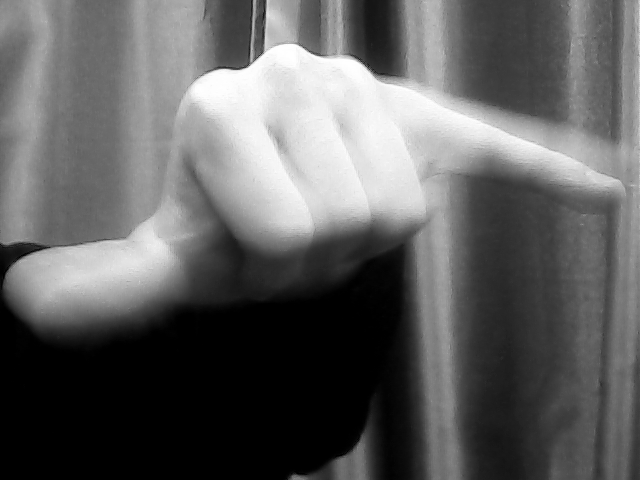aloha: (8, 42, 635, 338)
